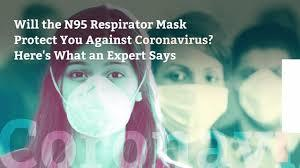Wearing Mask: (42, 18, 147, 168), (152, 12, 233, 168), (239, 33, 300, 168)
